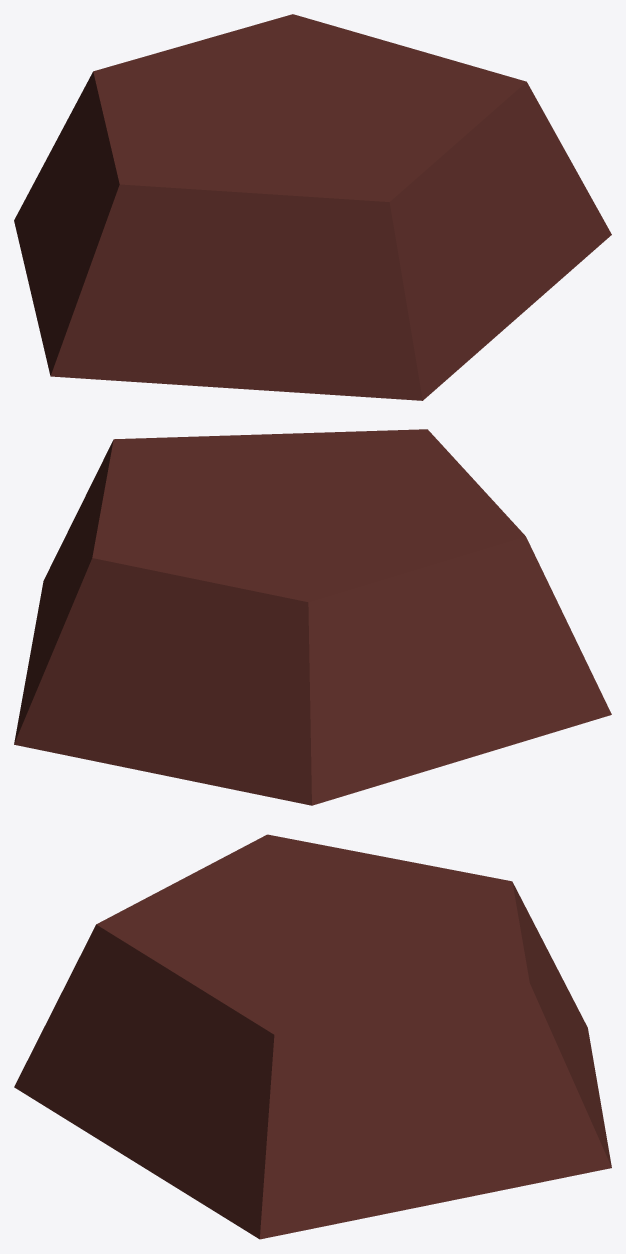
File: SM_Prop_BloodPool_05.glb
3 views of the same model, one above another, from view 1: azimuth 30°, elevation 25°; view 2: azimuth 150°, elevation 25°; view 3: azimuth 270°, elevation 25° (orthographic).
Visible parts, largest first — view 1: SM_Prop_BloodPool_05; view 2: SM_Prop_BloodPool_05; view 3: SM_Prop_BloodPool_05.
Part boxes in pixels (x1,y1,x2,y2): SM_Prop_BloodPool_05: (14,14,611,400); SM_Prop_BloodPool_05: (14,429,611,805); SM_Prop_BloodPool_05: (14,834,611,1239).
Bounding box in the file's own units: 0.1535 × 0.0432 × 0.1404.
1 material, 1 textured.
